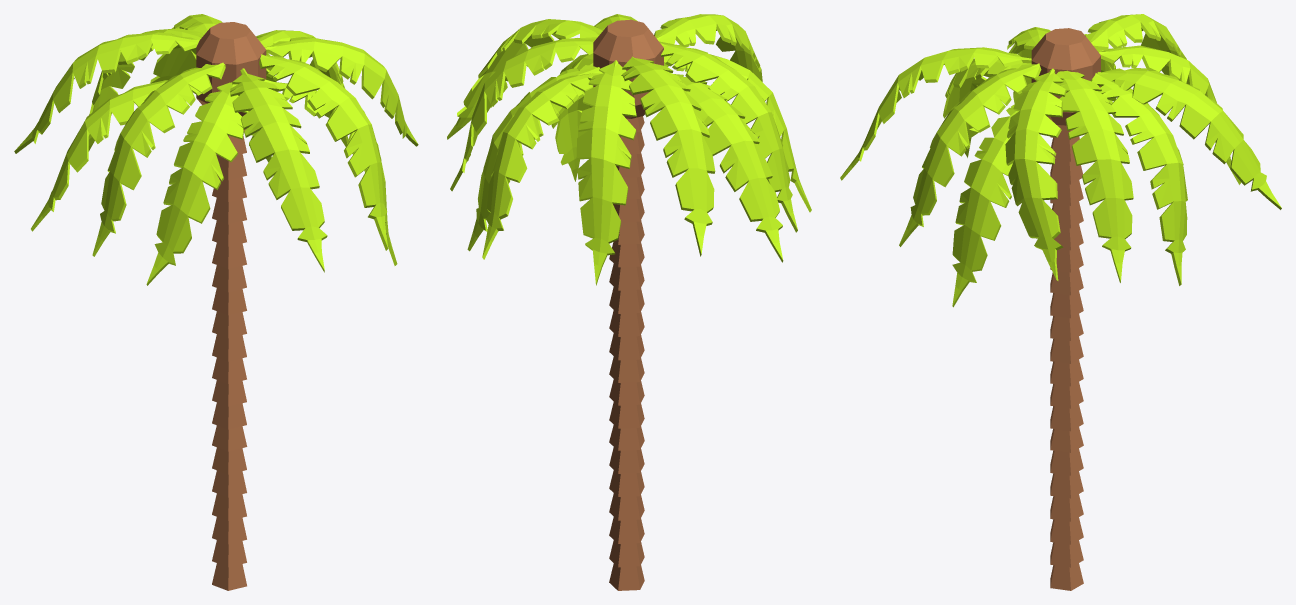
Rendered from palme1.fbx.
3 views of the same model, side by side, from view 1: azimuth 30°, elevation 25°; view 2: azimuth 150°, elevation 25°; view 3: azimuth 270°, elevation 25° (orthographic).
Parts seen in each view (by area): view 1: Palme1; view 2: Palme1; view 3: Palme1.
Part boxes in pixels (<box>): Palme1: <box>14,14,418,590</box>; Palme1: <box>447,14,811,590</box>; Palme1: <box>840,14,1281,590</box>.
Size of the model in its own units: 3210 by 4691 by 3437.
